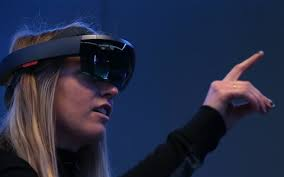hololens: (2, 32, 136, 92)
